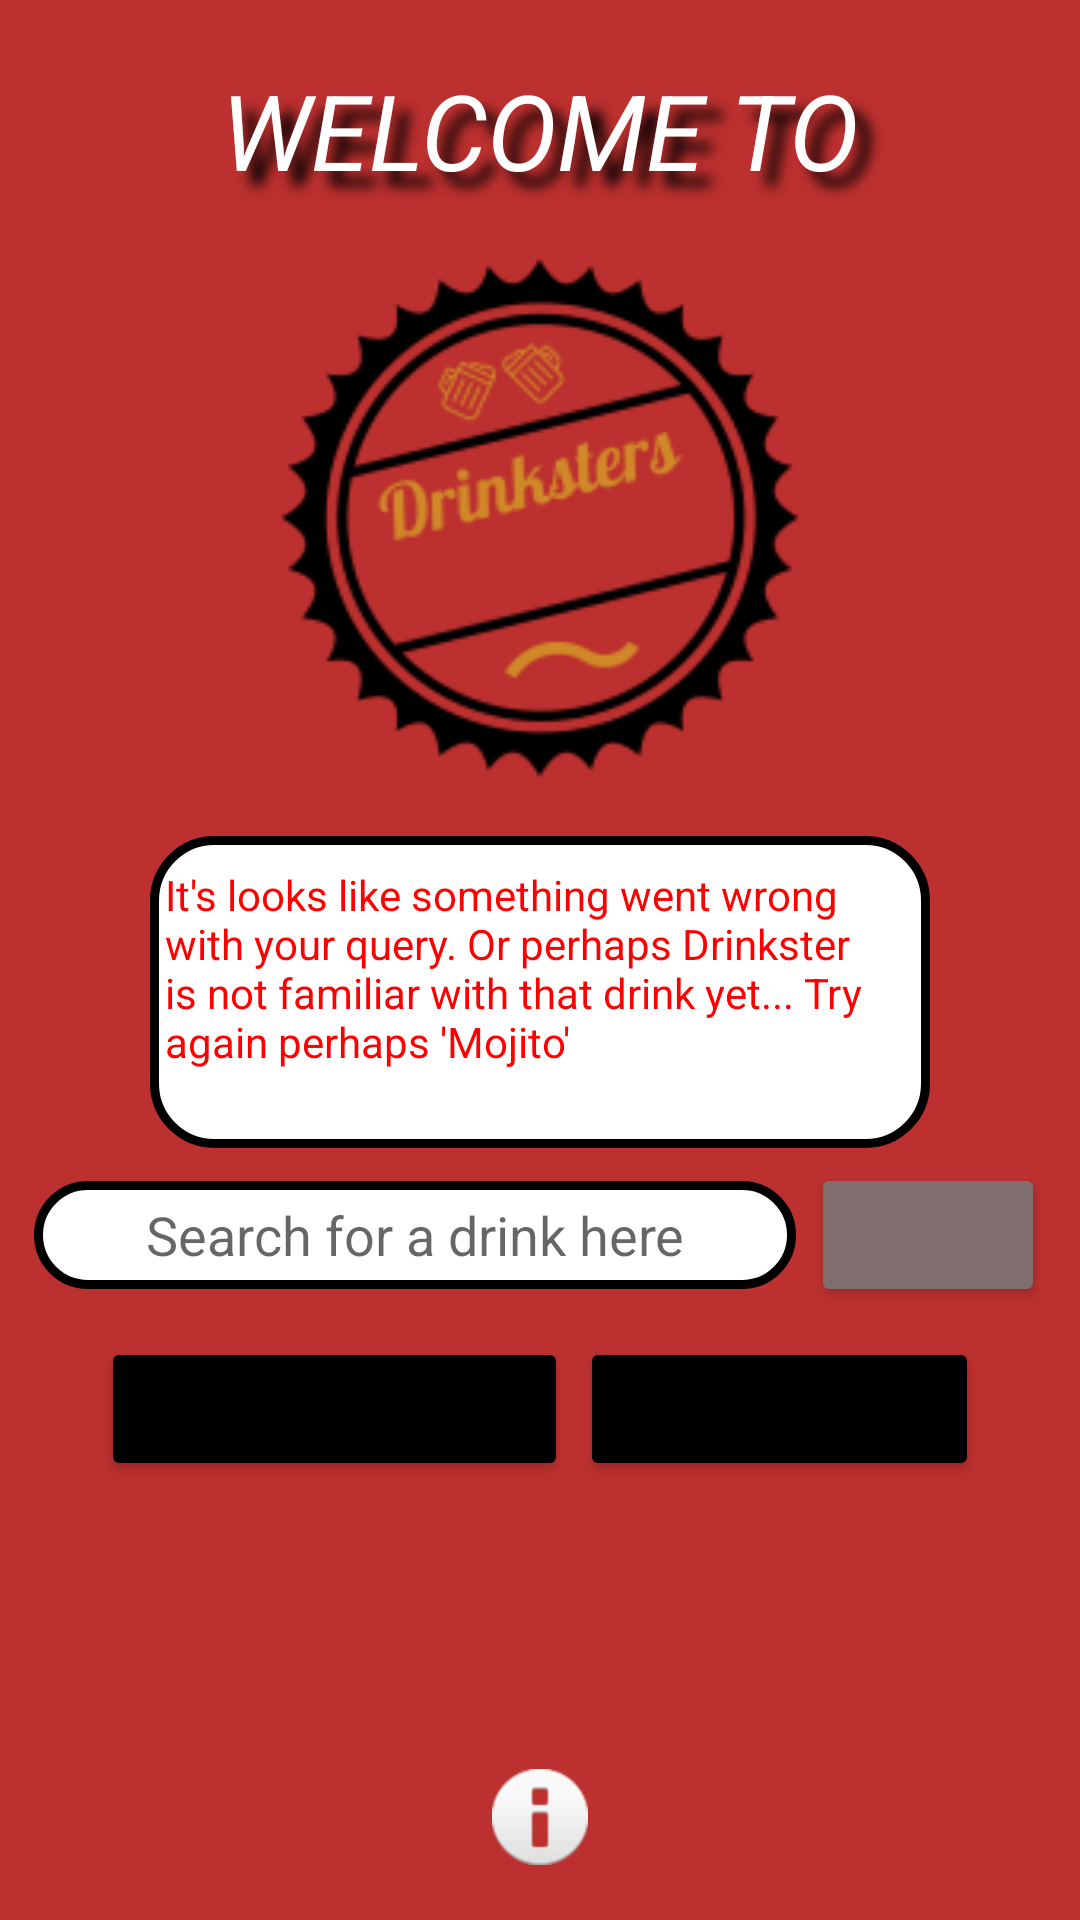

Point at icon controls on the screen. Image size 1080×1920, points as (x=x, y=y).
info: (x=540, y=1817)
